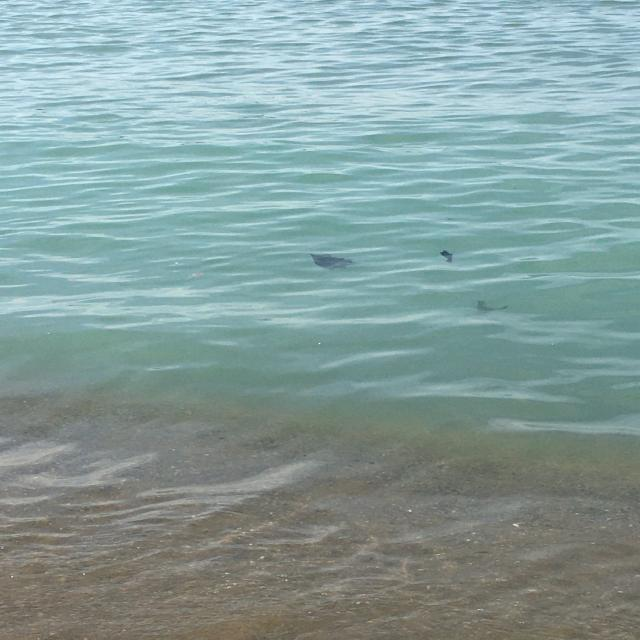Plastic: (438, 248, 455, 264)
Plastic bag: (472, 299, 510, 337), (308, 251, 360, 272)
